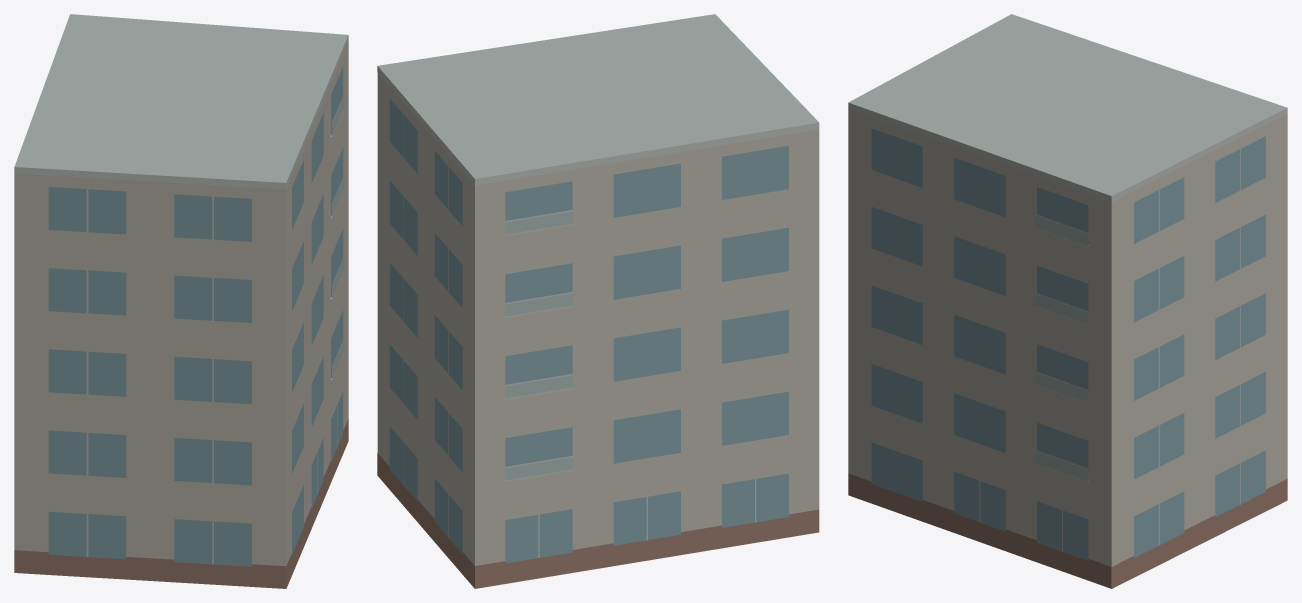
File: survey-upis-32678572.glb
3 renders of one model, left to right at view 1: azimuth 30°, elevation 25°; view 2: azimuth 150°, elevation 25°; view 3: azimuth 270°, elevation 25°, orthographic. The views are drawn at different scales.
Visible parts, largest first — view 1: survey-upis-32678572.tmp; view 2: survey-upis-32678572.tmp; view 3: survey-upis-32678572.tmp.
Boxes of the visible parts, x1=… form: survey-upis-32678572.tmp: x1=14, y1=14, x2=348, y2=588; survey-upis-32678572.tmp: x1=377, y1=14, x2=819, y2=588; survey-upis-32678572.tmp: x1=848, y1=14, x2=1287, y2=588.
Bounding box in the file's own units: 15.03 × 15.1 × 15.32.
